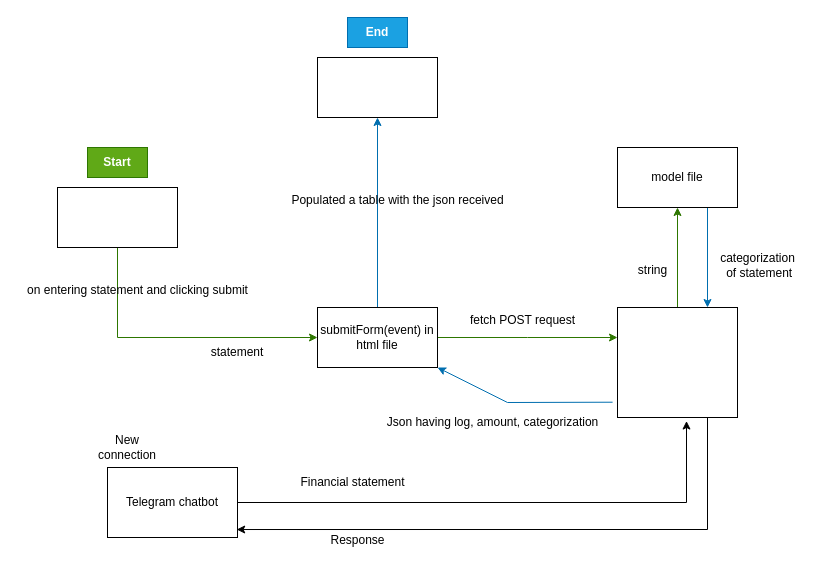
Image size: 824x573. Some labels were removed from this diagram. Each missing label, with the centre of its shape:
"FASTApi input_analysis(str) POST method + parseAmount" belongs at point 677,362.
"input text box" belongs at point 117,217.
"responseArea" belongs at point 377,87.
